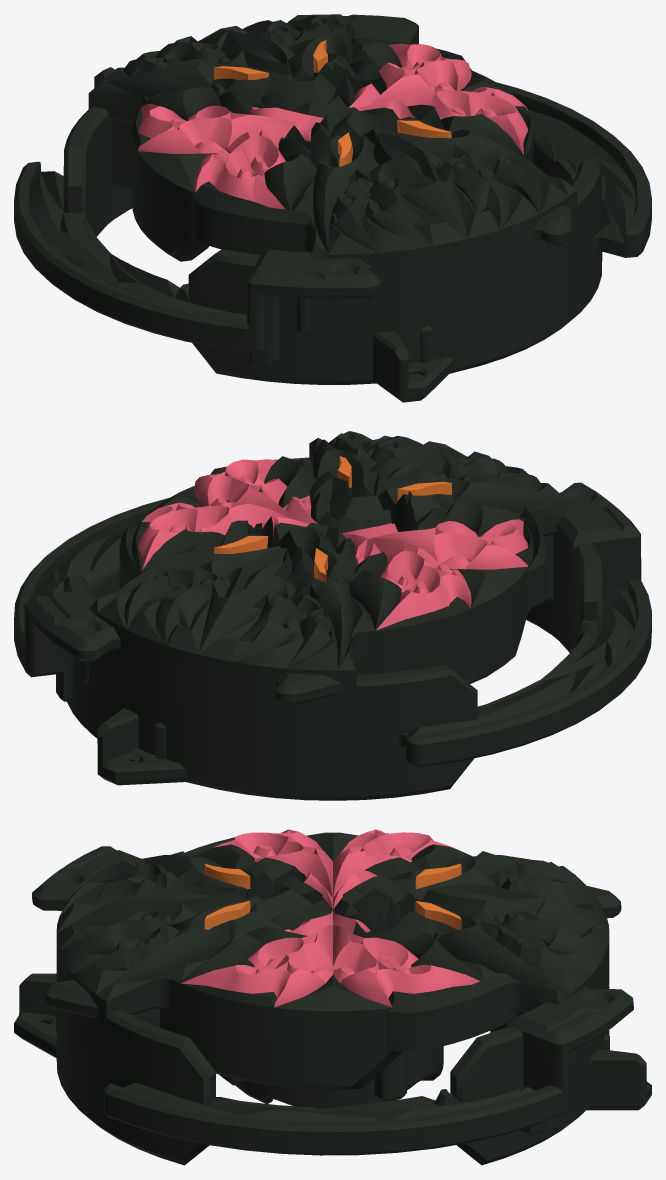
The model's file is BaziliskB8Geo.fbx.
3 views of the same model, one above another, from view 1: azimuth 30°, elevation 25°; view 2: azimuth 150°, elevation 25°; view 3: azimuth 270°, elevation 25° (orthographic). The views are drawn at different scales.
Parts seen in each view (by area): view 1: Ambush_BaziliskB8_StrikeChip; view 2: Ambush_BaziliskB8_StrikeChip; view 3: Ambush_BaziliskB8_StrikeChip.
Part boxes in pixels (left/top/right/bottom): Ambush_BaziliskB8_StrikeChip: left=14, top=14, right=651, bottom=402; Ambush_BaziliskB8_StrikeChip: left=14, top=431, right=651, bottom=800; Ambush_BaziliskB8_StrikeChip: left=14, top=829, right=651, bottom=1165.
Bounding box in the file's own units: 0.4257 × 0.1311 × 0.4153.
